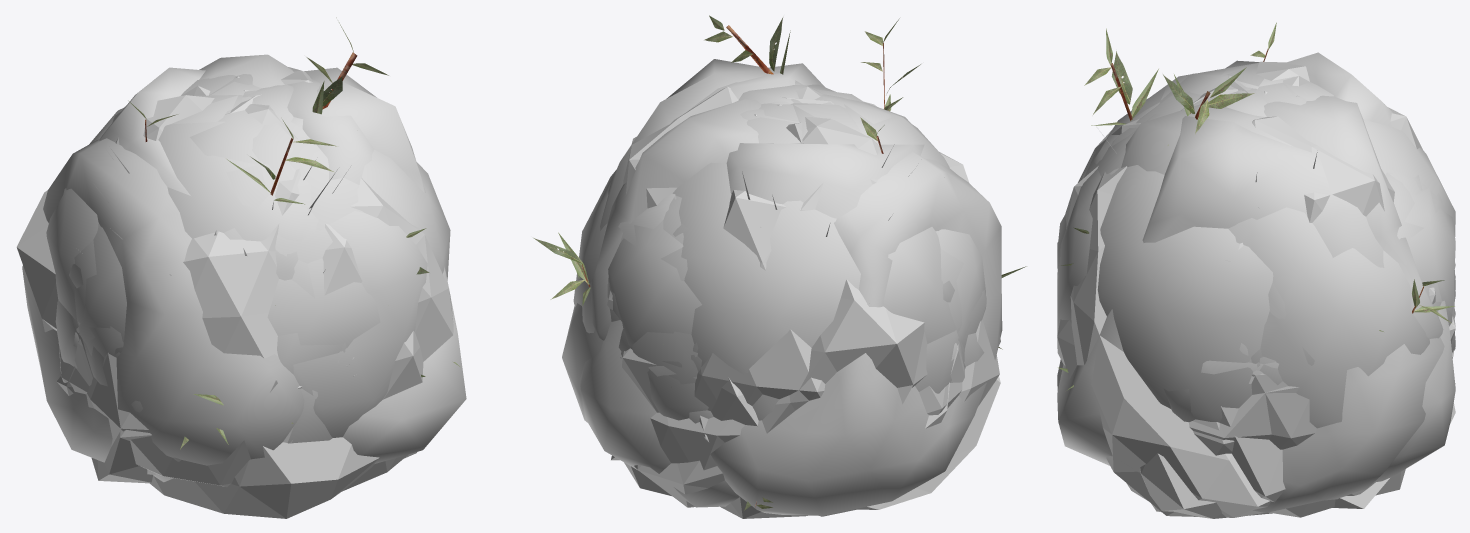
The model's file is rocks.glb.
The picture shows the model from 3 angles, left to right: view 1: azimuth 30°, elevation 25°; view 2: azimuth 150°, elevation 25°; view 3: azimuth 270°, elevation 25°; orthographic projection. The views are drawn at different scales.
Visible parts, largest first — view 1: ledge_4, dune_2, rock_3, dune_0, ledge_1, rock_2, ledge_2, rock_5, dune_3, ledge_3, ledge_0, dune_1 (+5 smaller); view 2: ledge_4, dune_3, rock_3, rock_5, ledge_2, ledge_3, dune_2, ledge_1, dune_0, ledge_0, rock_2, rock_4 (+6 smaller); view 3: ledge_1, dune_0, ledge_0, rock_5, ledge_4, dune_2, rock_1, ledge_2, dune_3, rock_4, rock_0, rock_2 (+6 smaller).
Part boxes in pixels (bbox=[...]): ledge_4: bbox=[22, 54, 304, 474]; dune_2: bbox=[78, 74, 427, 437]; rock_3: bbox=[86, 95, 300, 487]; dune_0: bbox=[78, 96, 450, 355]; ledge_1: bbox=[69, 67, 466, 463]; rock_2: bbox=[58, 76, 379, 518]; ledge_2: bbox=[76, 95, 339, 362]; rock_5: bbox=[16, 86, 453, 388]; dune_3: bbox=[46, 75, 343, 374]; ledge_3: bbox=[91, 67, 332, 482]; ledge_0: bbox=[73, 77, 374, 359]; dune_1: bbox=[55, 90, 345, 377]; ledge_4: bbox=[590, 98, 1002, 515]; dune_3: bbox=[672, 103, 964, 420]; rock_3: bbox=[694, 86, 999, 516]; rock_5: bbox=[611, 122, 927, 507]; ledge_2: bbox=[580, 103, 958, 507]; ledge_3: bbox=[693, 143, 1000, 366]; dune_2: bbox=[608, 94, 960, 346]; ledge_1: bbox=[562, 59, 954, 422]; dune_0: bbox=[608, 84, 986, 384]; ledge_0: bbox=[573, 63, 957, 367]; rock_2: bbox=[650, 114, 962, 470]; rock_4: bbox=[624, 104, 1000, 509]; ledge_1: bbox=[1057, 116, 1455, 512]; dune_0: bbox=[1057, 87, 1455, 422]; ledge_0: bbox=[1121, 104, 1455, 428]; rock_5: bbox=[1070, 76, 1455, 517]; ledge_4: bbox=[1057, 60, 1455, 422]; dune_2: bbox=[1057, 69, 1455, 365]; rock_1: bbox=[1057, 116, 1455, 501]; ledge_2: bbox=[1082, 63, 1455, 481]; dune_3: bbox=[1057, 65, 1455, 385]; rock_4: bbox=[1065, 91, 1405, 517]; rock_0: bbox=[1139, 76, 1455, 518]; rock_2: bbox=[1057, 96, 1455, 449].
Bounding box in the file's own units: 1 × 1.18 × 1.
2 materials, 2 textured.
